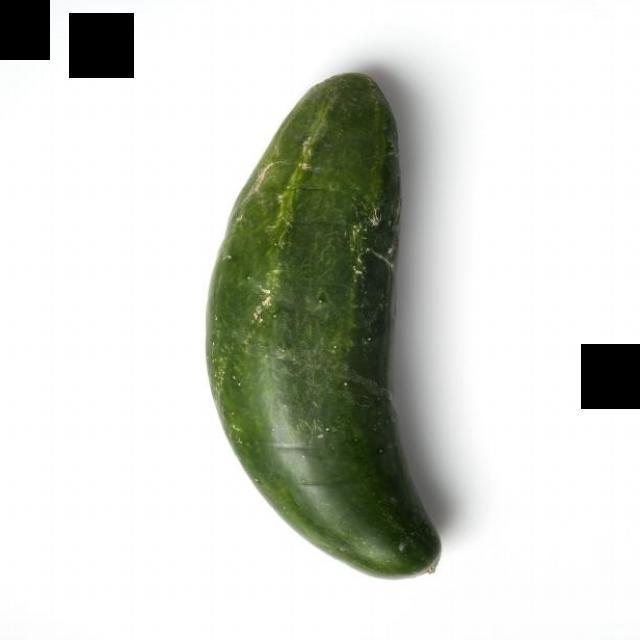cucumber: (196, 67, 450, 583)
